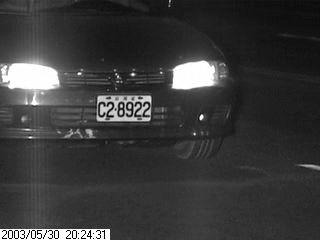plate: (95, 93, 153, 123)
